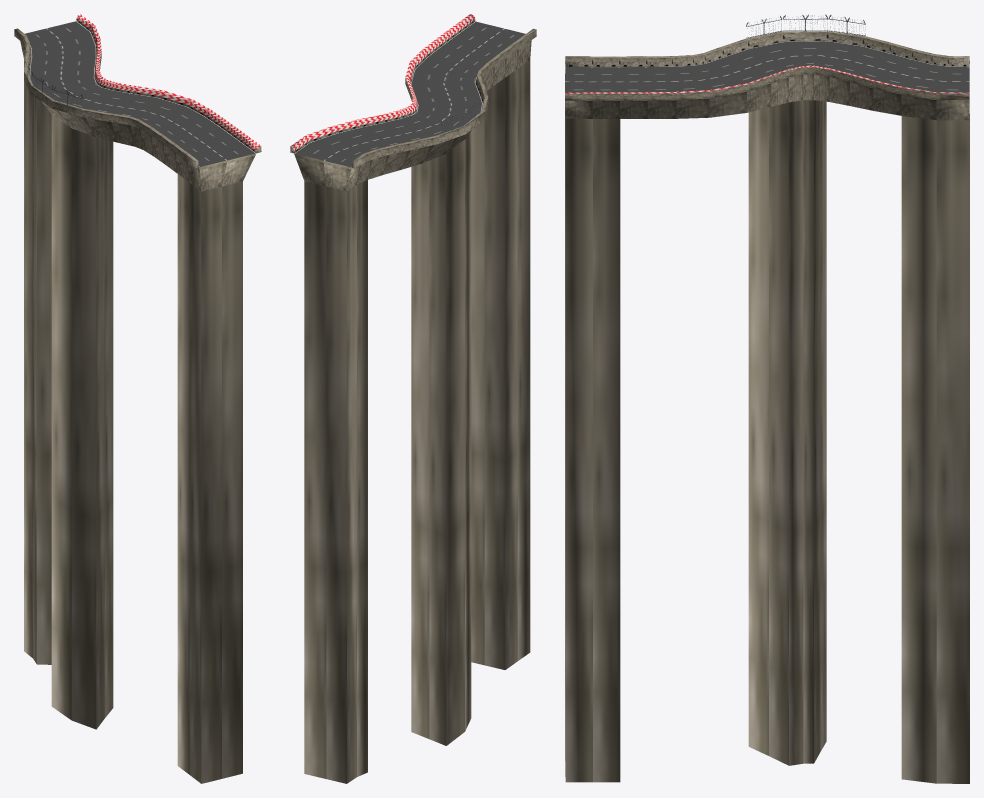
Rendered from PistaDerecha.fbx.
3 renders of one model, left to right at view 1: azimuth 30°, elevation 25°; view 2: azimuth 150°, elevation 25°; view 3: azimuth 270°, elevation 25°, orthographic. The views are drawn at different scales.
Parts seen in each view (by area): view 1: Plane.003; view 2: Plane.003; view 3: Plane.003.
Part boxes in pixels (x1=…): Plane.003: x1=14, y1=14, x2=261, y2=783; Plane.003: x1=290, y1=14, x2=536, y2=783; Plane.003: x1=565, y1=14, x2=969, y2=783.
Size of the model in its own units: 4128 by 22120 by 11326.
